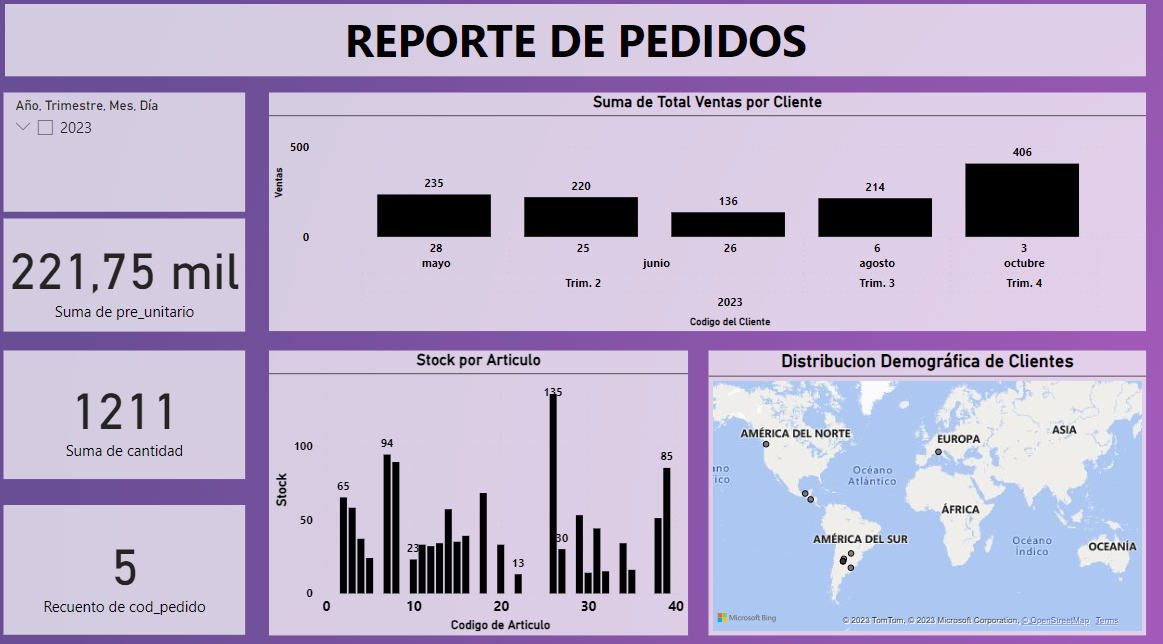

What the dashboard file says about the page in this screenshot:
{"tool":"powerbi","page":{"name":"Reporte Clientes","canvas":[1280,720],"ordinal":2},"visuals":[{"type":"map","title":"Distribucion Demográfica de Clientes ","fields":{"Category":["barrios.barrio"]},"box":[784.4,390.5,472.3,307.1],"z":0},{"type":"textbox","box":[25.4,16.9,1231,77.8],"z":1000},{"type":"columnChart","title":"Suma de Total Ventas por Cliente","fields":{"Category":["clientes.cod_cliente"],"Y":["Sum(detalle_facturas.Total ventas)"]},"box":[310.4,111.8,946.2,257],"z":2000},{"type":"card","fields":{"Values":["Medidas.Medida"]},"box":[25,111.8,260.3,118.5],"z":3000},{"type":"card","fields":{"Values":["Medidas.Promedio de compras por cliente"]},"box":[25,247,260.3,121.8],"z":4000},{"type":"card","fields":{"Values":["detalle_facturas.Total ventas máx. por cod_cliente"]},"box":[25,557.4,260.3,140.2],"z":5000},{"type":"card","fields":{"Values":["Medidas.Promedio de PromedioCantidadPorPrecioUnitario por cod_cliente"]},"box":[25,390.5,260.3,138.5],"z":6000},{"type":"columnChart","title":"Stock por Articulo","fields":{"Category":["articulos.cod_articulo"],"Y":["Sum(articulos.stock)"]},"box":[310.4,390.5,452.3,307.1],"z":7000}]}

Visuals, with their boxes in screenshot pixels (x1, y1, x2, y2), scaled from the page's 1280x720 canvas onto the 1163x644 screenshot:
"Distribucion Demográfica de Clientes " map: 713, 349, 1142, 624
textbox: 23, 15, 1142, 85
"Suma de Total Ventas por Cliente" columnChart: 282, 100, 1142, 330
card - Medidas.Medida: 23, 100, 259, 206
card - Medidas.Promedio de compras por cliente: 23, 221, 259, 330
card - detalle_facturas.Total ventas máx. por cod_cliente: 23, 499, 259, 624
card - Medidas.Promedio de PromedioCantidadPorPrecioUnitario por cod_cliente: 23, 349, 259, 473
"Stock por Articulo" columnChart: 282, 349, 693, 624
